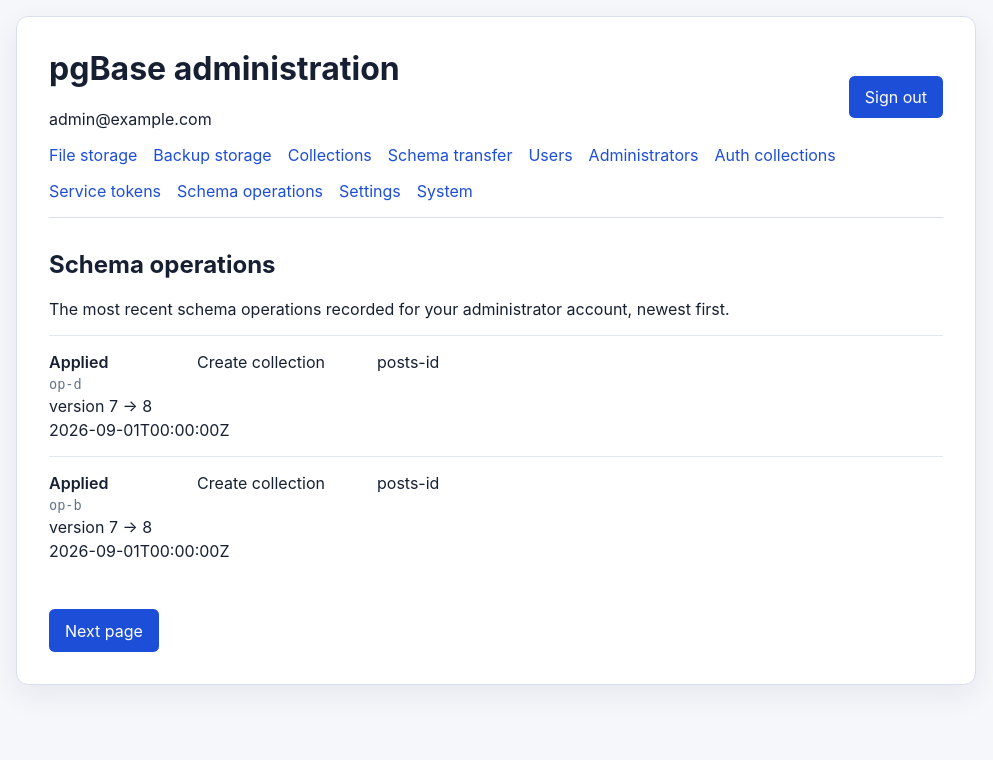
Test: schema operations page › keeps the ledger's ordering when the next page is appended
Expected: the text "op-d" is shown, x1=49 y1=376 x2=82 y2=392
Click the button "Next page": (104, 630) x1=49 y1=609 x2=159 y2=652
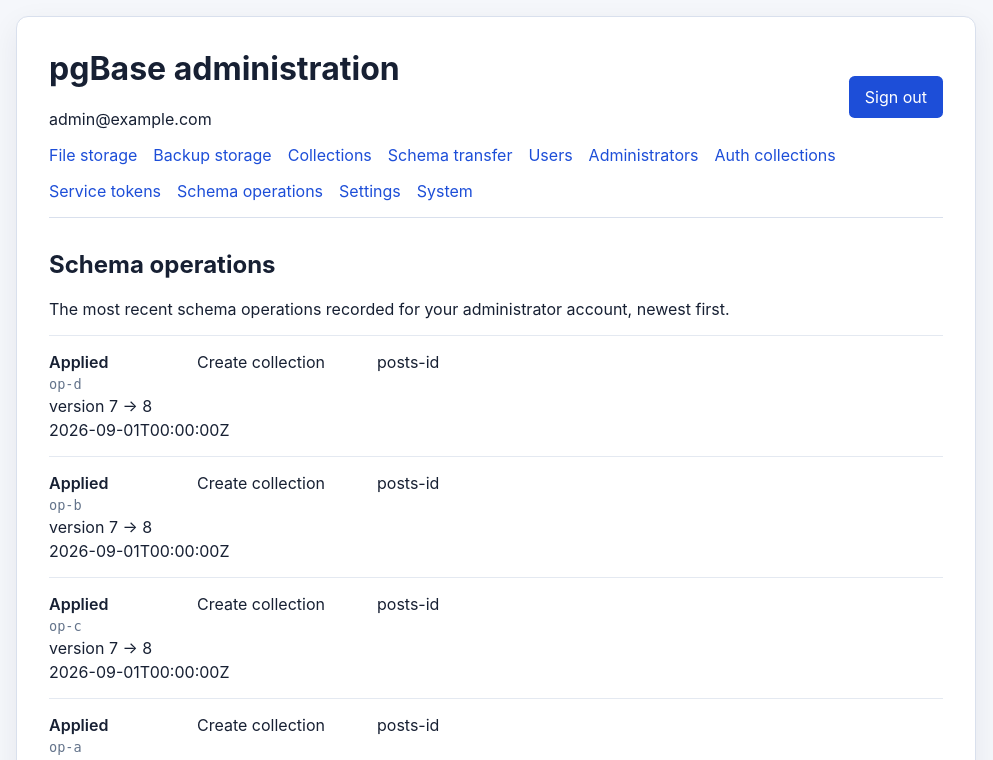
Now the text "op-a" is shown, box x1=49 y1=739 x2=82 y2=755
